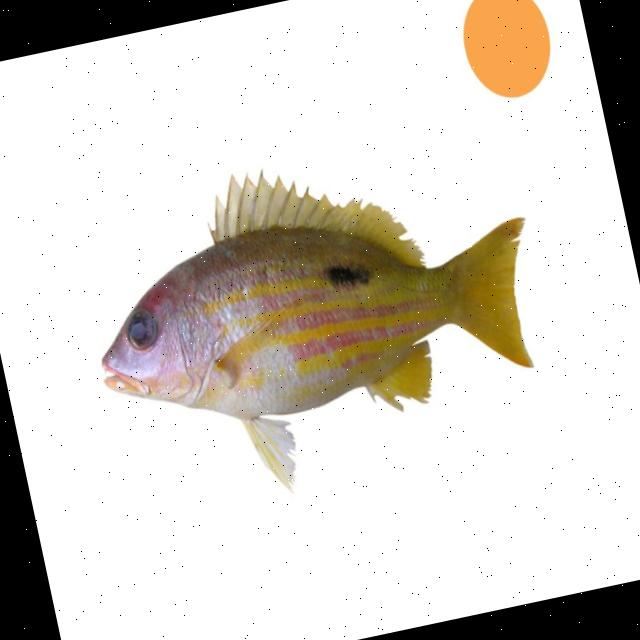ikan: (66, 114, 570, 525)
